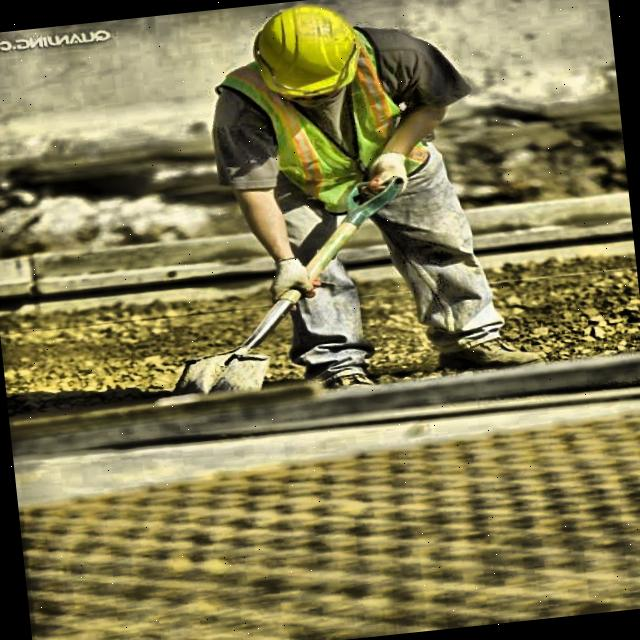helmet: (241, 0, 376, 112)
